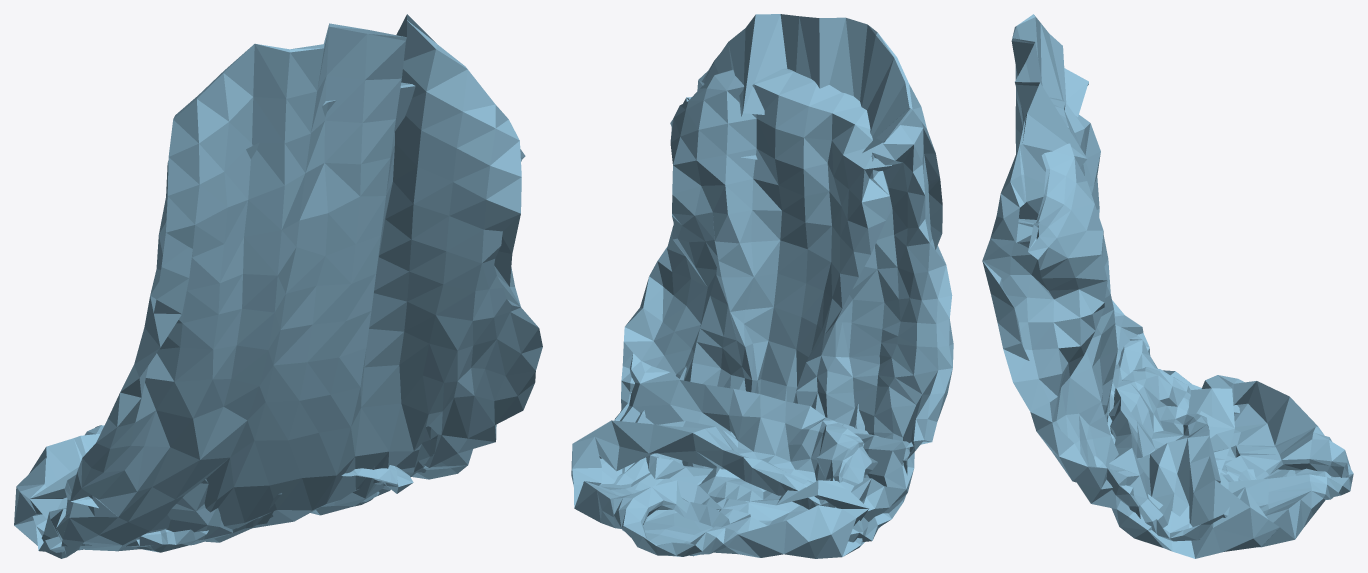
Rendered from frame_10.glb.
The picture shows the model from 3 angles, left to right: view 1: azimuth 30°, elevation 25°; view 2: azimuth 150°, elevation 25°; view 3: azimuth 270°, elevation 25°; orthographic projection. The views are drawn at different scales.
Visible parts, largest first — view 1: frame_10.obj; view 2: frame_10.obj; view 3: frame_10.obj.
Boxes of the visible parts, <box> form: frame_10.obj: <box>14,14,542,558</box>; frame_10.obj: <box>571,14,953,558</box>; frame_10.obj: <box>982,14,1353,558</box>.
Bounding box in the file's own units: 1.04 × 1.35 × 1.
